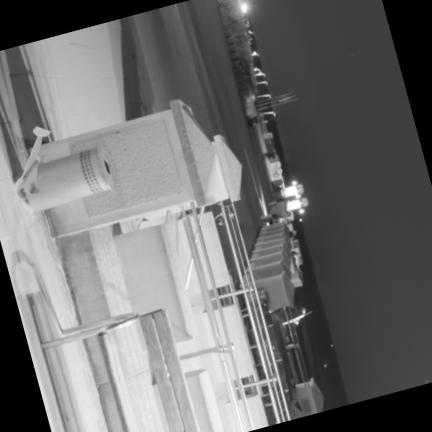Shahed: (12, 126, 49, 193)
